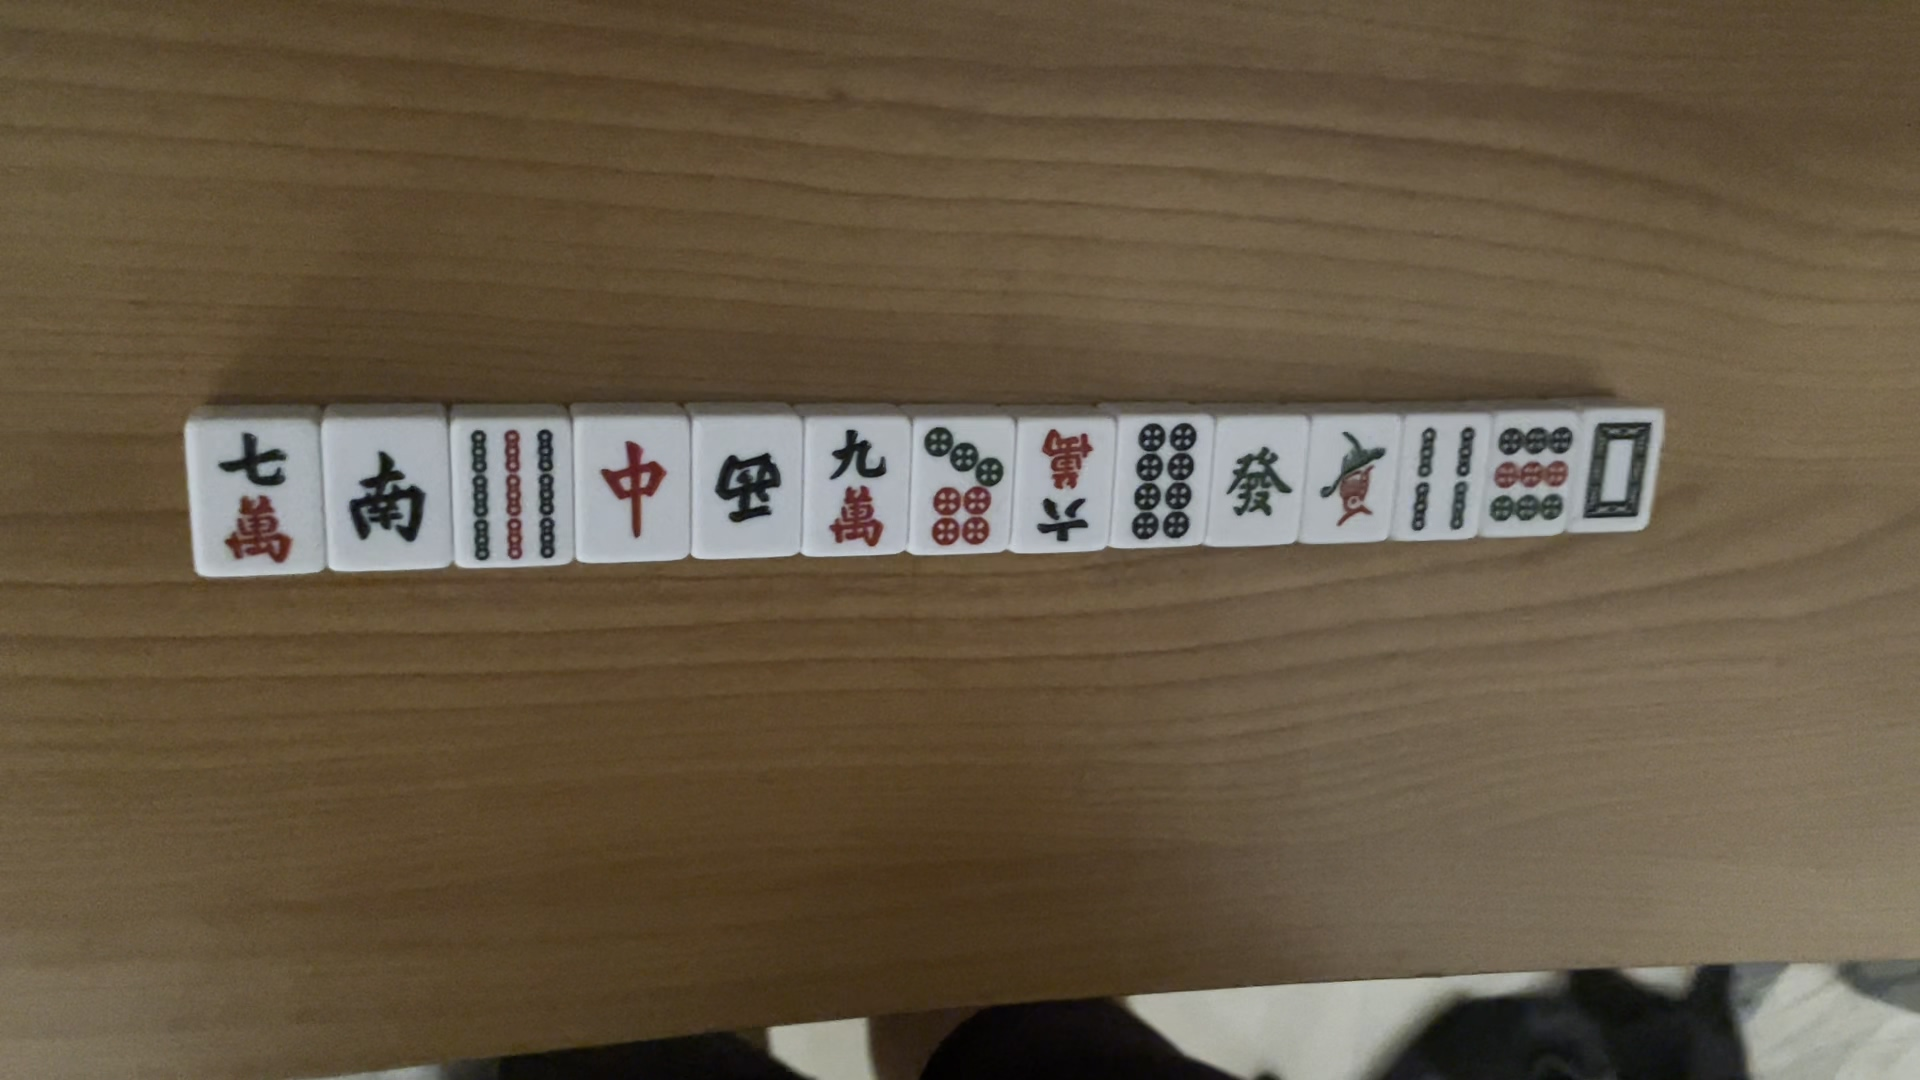b-1: (1315, 419, 1390, 531)
b-4: (1406, 418, 1476, 535)
b-9: (455, 425, 567, 562)
c-6: (1021, 419, 1100, 551)
c-7: (196, 419, 301, 564)
c-9: (816, 425, 893, 541)
d-7: (922, 422, 1009, 550)
d-8: (1116, 418, 1199, 541)
d-9: (1489, 417, 1576, 533)
honors-green: (1215, 440, 1294, 525)
honors-red: (591, 433, 673, 538)
honors-south: (336, 447, 433, 541)
honors-west: (709, 446, 783, 527)
honors-white: (1581, 411, 1658, 527)
